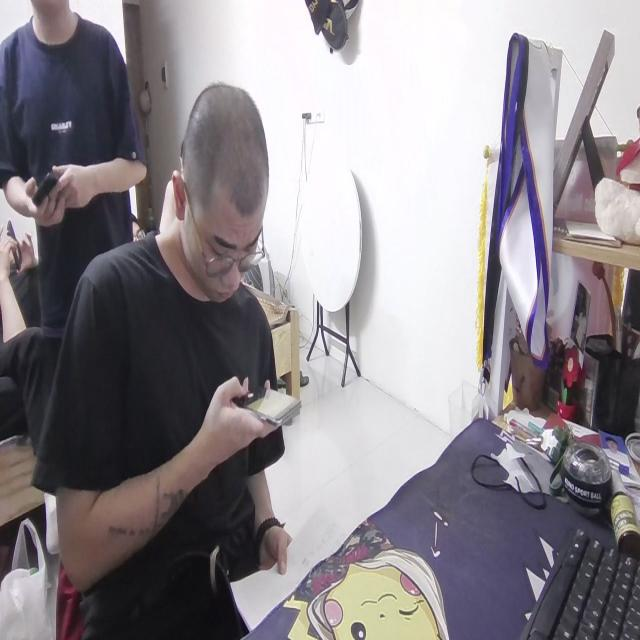book: (218, 501, 337, 640)
extra_person: (0, 0, 144, 362)
phone: (239, 371, 301, 434)
student: (41, 73, 291, 640)
